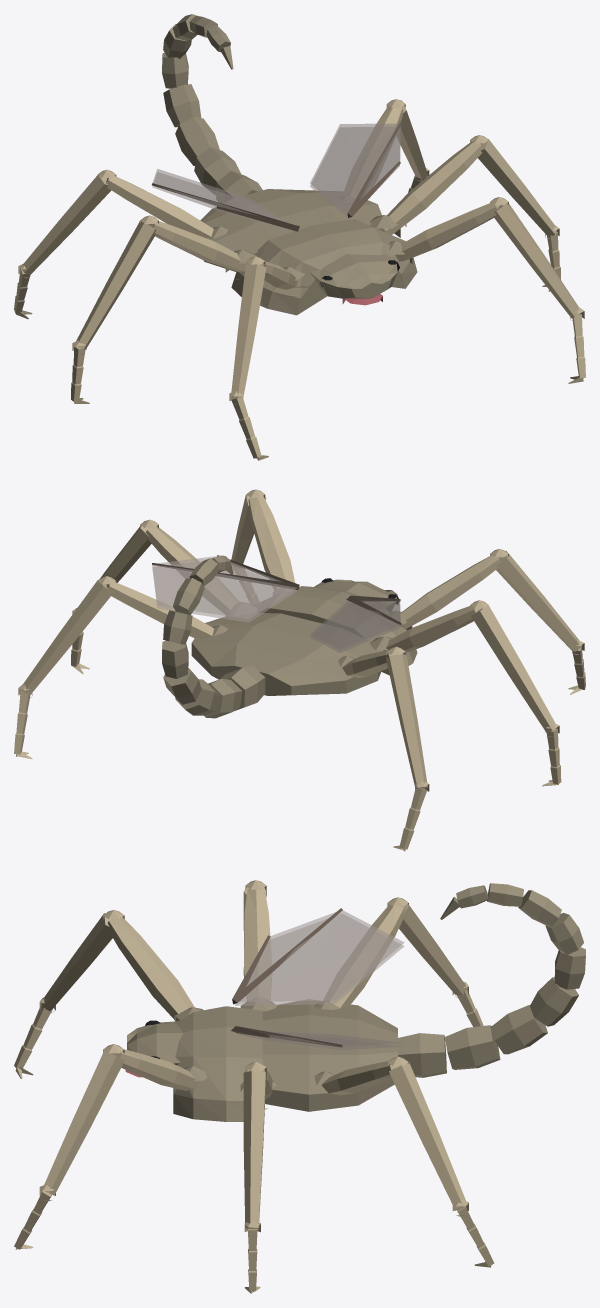
The model's file is facehugger.glb.
3 renders of one model, top to bottom at view 1: azimuth 30°, elevation 25°; view 2: azimuth 150°, elevation 25°; view 3: azimuth 270°, elevation 25°, orthographic. The views are drawn at different scales.
Parts seen in each view (by area): view 1: BeetleSternite_tail, ThoraxCore, BeetleBodyInner, wing_membrane001, HeadBase001, Femur002, Tibia003, Tibia001, wing_membrane002, Tibia000, Tibia005, Femur005 (+11 smaller); view 2: BeetleBodyInner, BeetleSternite_tail, wing_membrane001, ThoraxCore, wing_membrane002, Tibia003, Tibia005, Tibia004, Femur001, Femur000, Tibia001, Femur002 (+11 smaller); view 3: BeetleSternite_tail, BeetleBodyInner, wing_membrane002, ThoraxCore, Femur005, Femur001, Tibia002, Tibia000, Tibia004, Femur003, Tibia001, Tibia005 (+10 smaller).
Part boxes in pixels (box(x1,y1,x2,y2)): BeetleSternite_tail: box(162, 14, 262, 202); ThoraxCore: box(231, 219, 417, 315); BeetleBodyInner: box(200, 189, 384, 271); wing_membrane001: box(310, 123, 400, 218); HeadBase001: box(309, 253, 397, 298); Femur002: box(383, 141, 482, 234); Tibia003: box(76, 221, 156, 349); Tibia001: box(231, 264, 266, 398); wing_membrane002: box(152, 169, 289, 225); Tibia000: box(494, 203, 580, 318); Tibia005: box(22, 174, 111, 274); Femur005: box(106, 176, 213, 238); BeetleBodyInner: box(191, 612, 383, 695); BeetleSternite_tail: box(162, 555, 265, 718); wing_membrane001: box(152, 556, 297, 622); ThoraxCore: box(253, 586, 417, 675); wing_membrane002: box(310, 600, 400, 652); Tibia003: box(471, 605, 555, 732); Tibia005: box(387, 653, 427, 788); Tibia004: box(22, 579, 112, 695); Femur001: box(399, 555, 500, 629); Femur000: box(248, 496, 295, 590); Tibia001: box(496, 550, 581, 651); Femur002: box(145, 526, 238, 615); BeetleSternite_tail: box(395, 883, 585, 1077); BeetleBodyInner: box(262, 999, 397, 1111); wing_membrane002: box(235, 910, 404, 1005); ThoraxCore: box(173, 1006, 262, 1121); Femur005: box(322, 904, 404, 1007); Femur001: box(107, 917, 194, 1021); Tibia002: box(243, 1070, 265, 1229); Tibia000: box(43, 1050, 124, 1195); Tibia004: box(389, 1062, 467, 1210); Femur003: box(243, 888, 271, 1000); Tibia001: box(42, 913, 112, 1011); Tibia005: box(399, 898, 467, 994).
Bounding box in the file's own units: 3.84 × 1.86 × 3.46.
